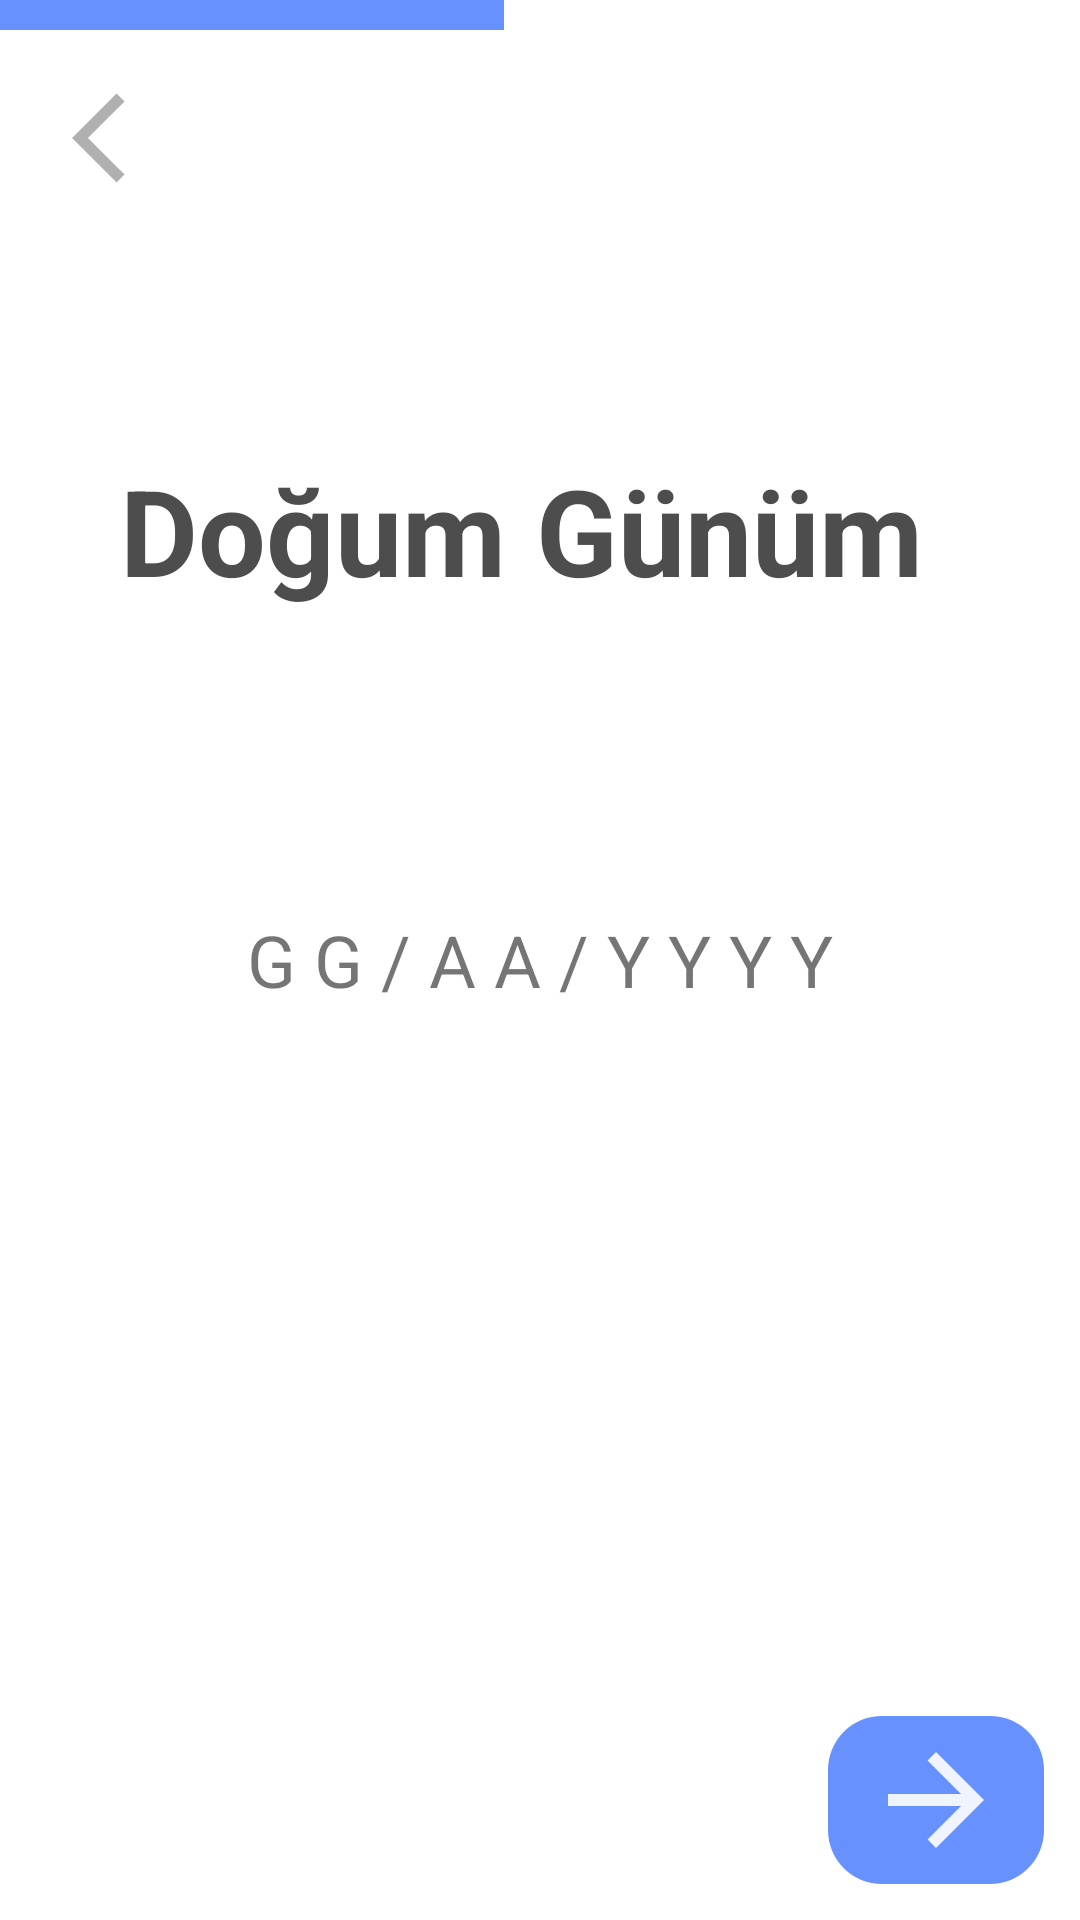

Icon bounding boxes for this 1080x1920 phone screenshot, format (x1, y1, x2, y2):
arrow back: (72, 94, 124, 182)
arrow forward: (828, 1716, 1044, 1884)
